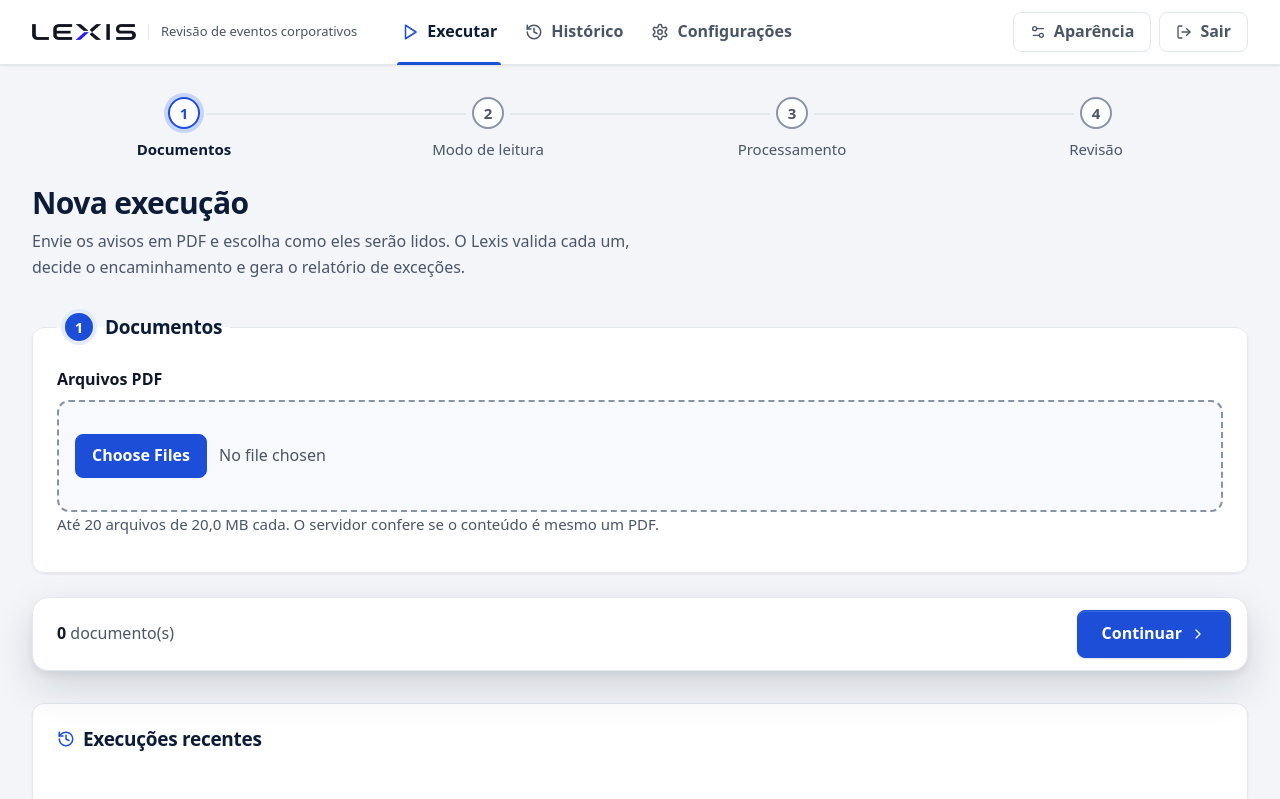
Test case: Executar › não avança sem documentos
The image size is (1280, 799).
Click the button "Continuar".
click(1154, 634)  # box [1077,610,1231,658]
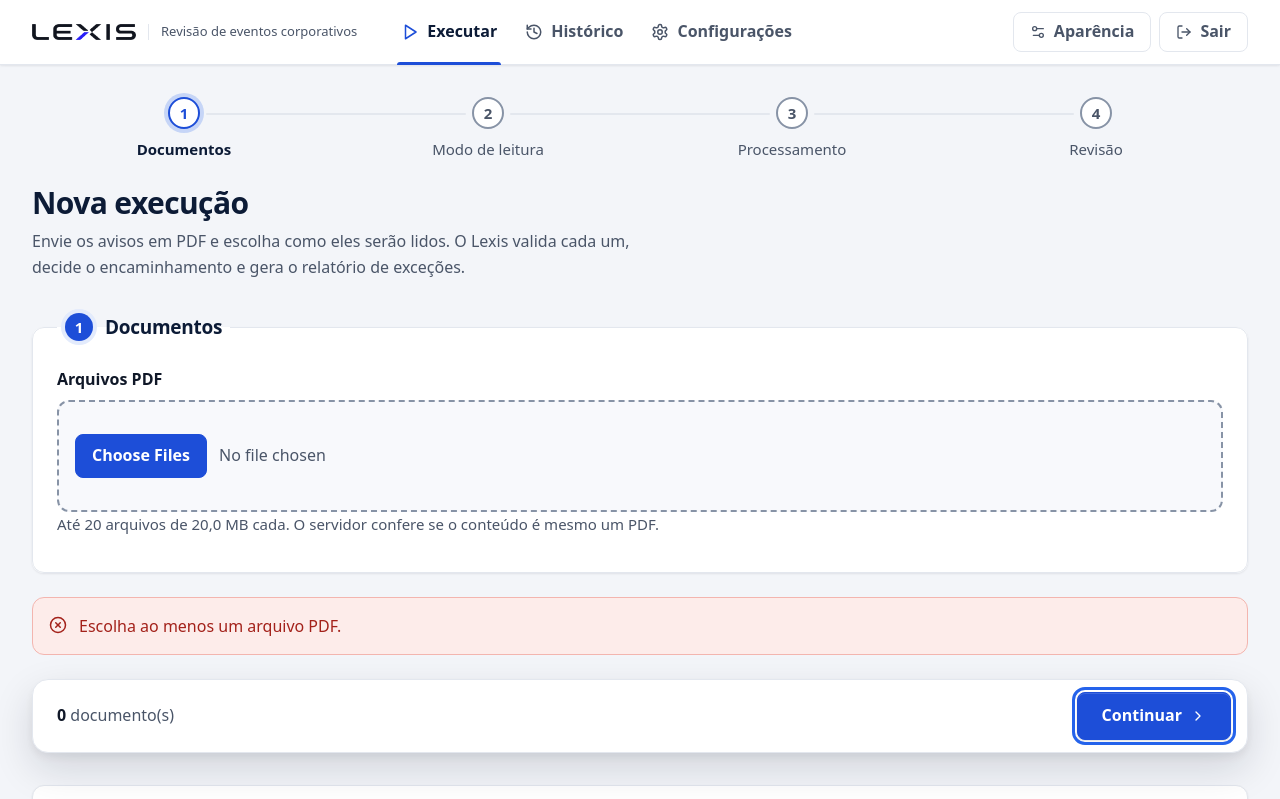
Expected: the message shows "ao menos um arquivo PDF", [79,615,341,637]
